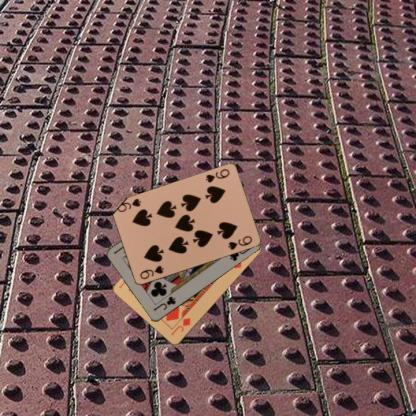9s: (137, 263, 165, 281), (202, 166, 230, 184)
Jc: (151, 294, 177, 313)
Jd: (168, 315, 192, 337)
